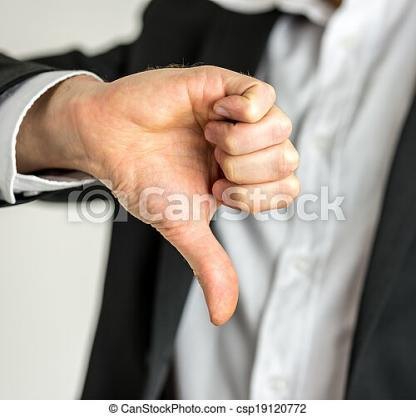Thumbs-Down: (73, 44, 332, 344)
